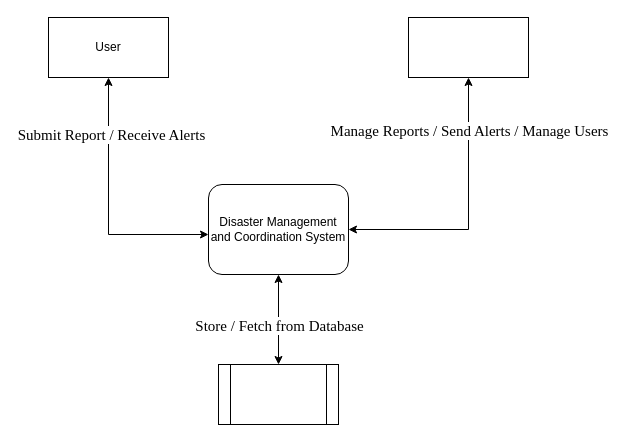
This 625x442 diagram has some shape labels left out. Here are the shapes that lost their labels. From the top down, the centre of each, then its label:
[468,47]: Admin
[278,394]: Database
